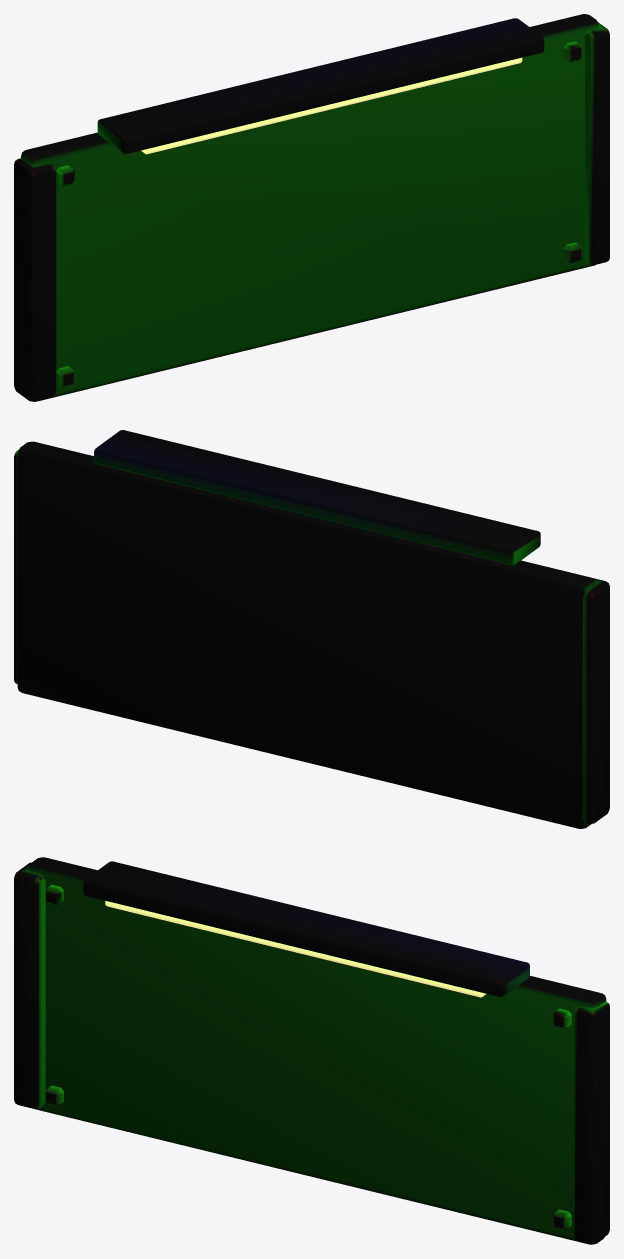
Rendered from hero_wall_plaque.glb.
3 renders of one model, top to bottom at view 1: azimuth 30°, elevation 25°; view 2: azimuth 150°, elevation 25°; view 3: azimuth 330°, elevation 25°, orthographic.
Visible parts, largest first — view 1: HeroWallPlaque; view 2: HeroWallPlaque; view 3: HeroWallPlaque.
Part boxes in pixels (<box>): HeroWallPlaque: <box>14,14,609,401</box>; HeroWallPlaque: <box>14,430,609,828</box>; HeroWallPlaque: <box>14,857,609,1244</box>.
Bounding box in the file's own units: 1.88 × 0.805 × 0.18.
